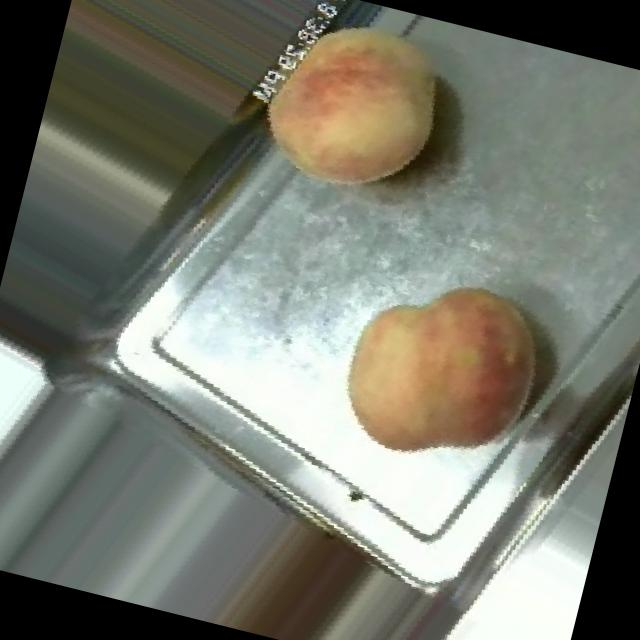Fruit: (296, 227, 589, 517), (219, 0, 483, 233)
